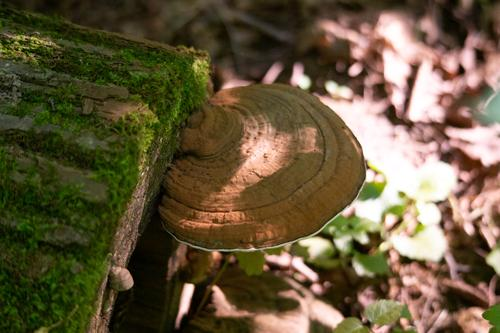Ganoderma - Fruit Body: (164, 82, 365, 252)
